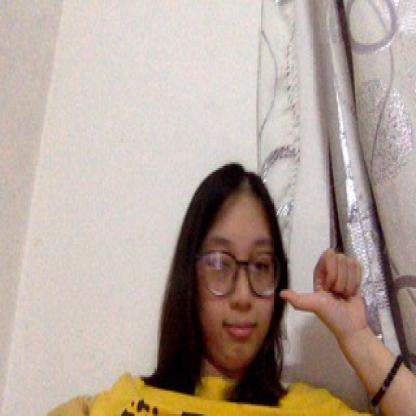right: (280, 246, 370, 340)
